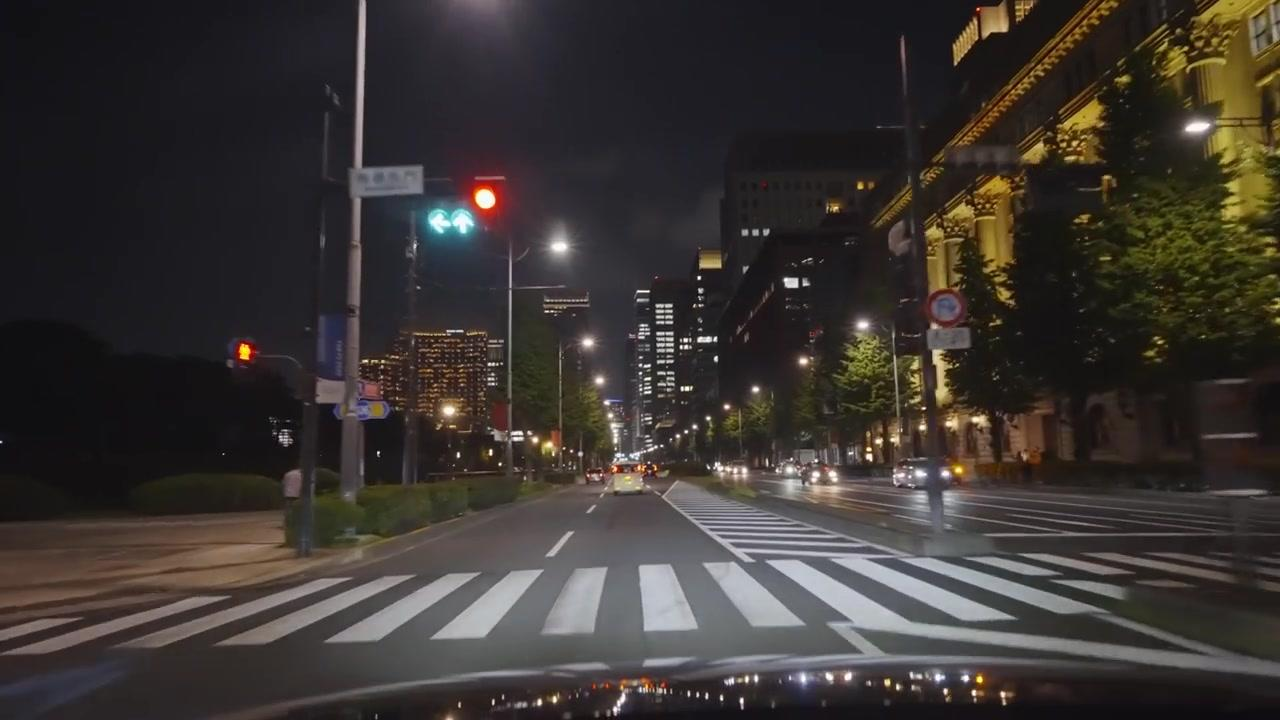car: (893, 457, 956, 489), (611, 461, 645, 494), (892, 458, 922, 488), (801, 462, 838, 483), (585, 470, 606, 483)
traffic light: (470, 176, 507, 231), (229, 339, 259, 374)
